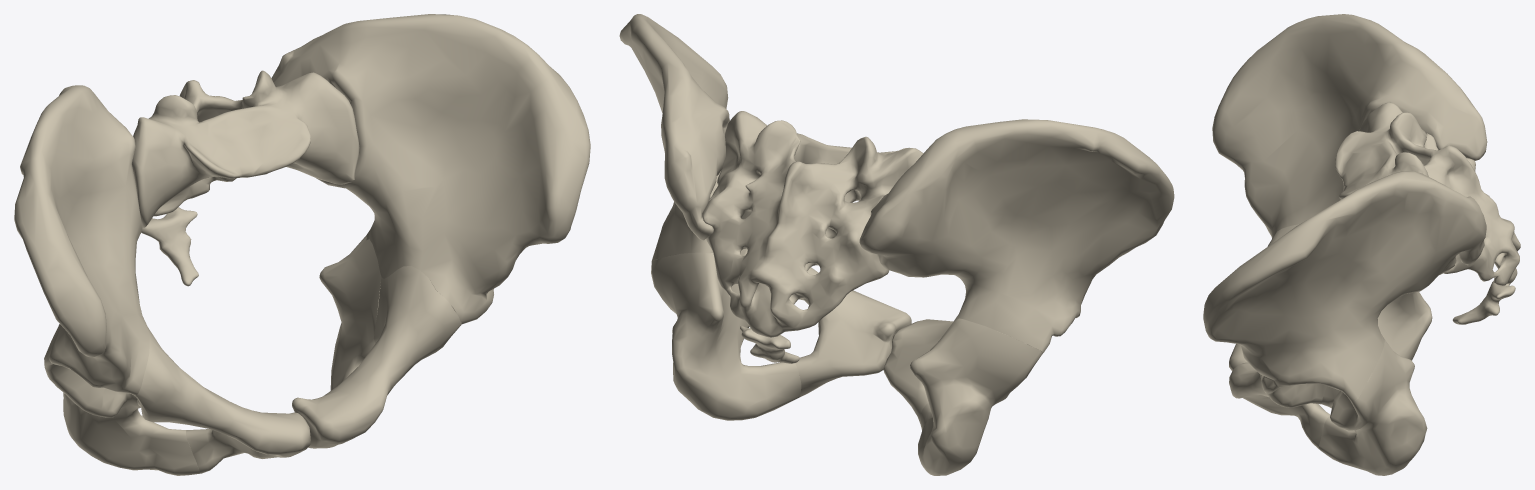
Rendered from femalepelvis.glb.
3 views of the same model, side by side, from view 1: azimuth 30°, elevation 25°; view 2: azimuth 150°, elevation 25°; view 3: azimuth 270°, elevation 25° (orthographic). The views are drawn at different scales.
Visible parts, largest first — view 1: p1, p2, p3, p0; view 2: p2, p1, p3, p0; view 3: p1, p2, p3, p0.
Part boxes in pixels (left/top/right/bottom): p1: left=271, top=14, right=590, bottom=448; p2: left=14, top=85, right=310, bottom=475; p3: left=132, top=70, right=359, bottom=227; p0: left=141, top=207, right=198, bottom=286; p2: left=859, top=119, right=1174, bottom=475; p1: left=619, top=14, right=911, bottom=420; p3: left=702, top=111, right=923, bottom=337; p0: left=740, top=326, right=799, bottom=363; p1: left=1203, top=171, right=1486, bottom=475; p2: left=1212, top=14, right=1487, bottom=370; p3: left=1335, top=102, right=1520, bottom=285; p0: left=1452, top=280, right=1515, bottom=324.
Size of the model in its own units: 25.72 by 17.15 by 14.98.
